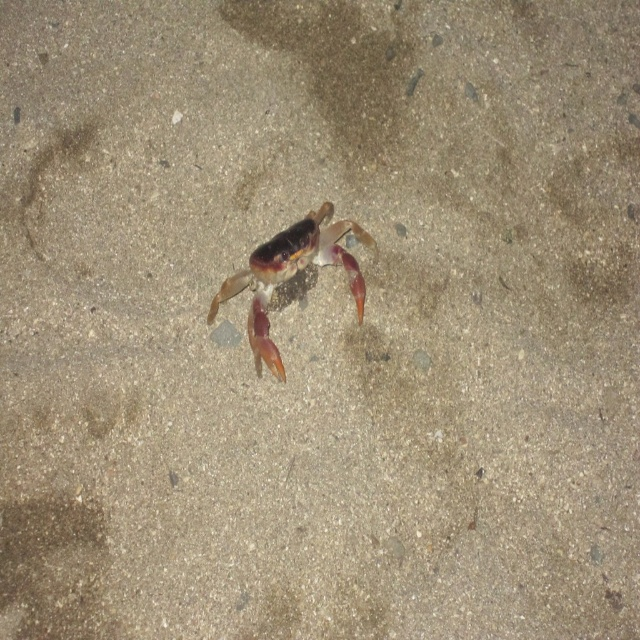Crab: (207, 200, 379, 384)
